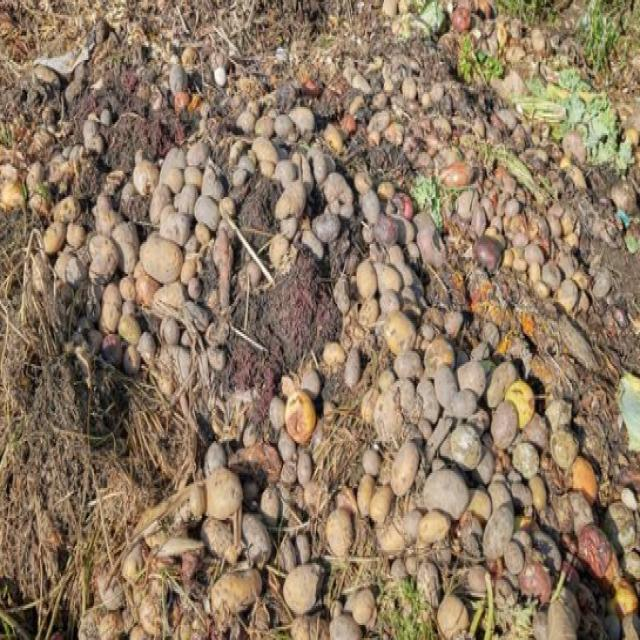paper: (19, 387, 101, 512), (541, 75, 619, 152), (282, 388, 324, 453), (143, 232, 180, 288), (438, 368, 458, 403)
